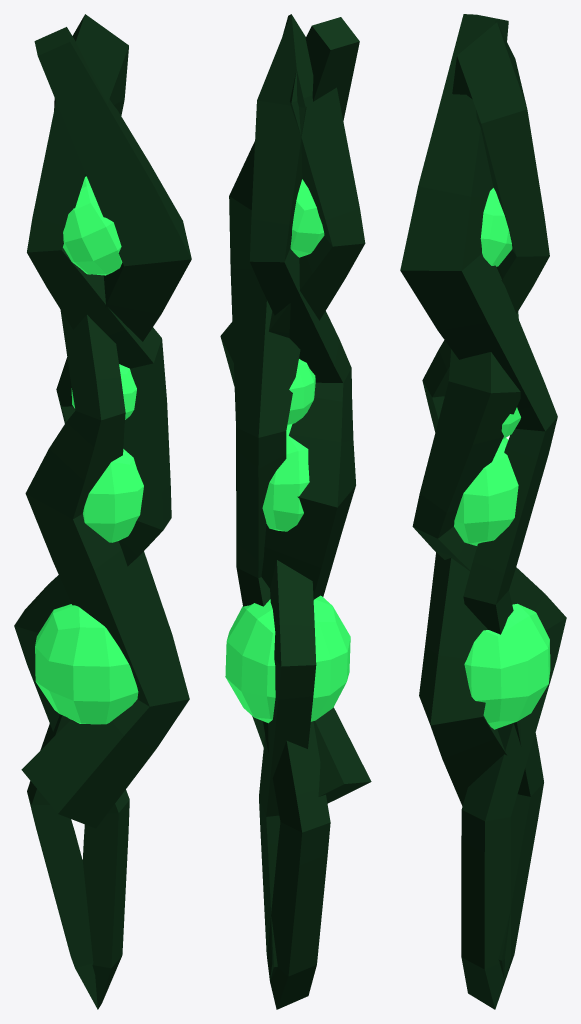
Rendered from light1.glb.
3 views of the same model, side by side, from view 1: azimuth 30°, elevation 25°; view 2: azimuth 150°, elevation 25°; view 3: azimuth 270°, elevation 25° (orthographic). The views are drawn at different scales.
Parts seen in each view (by area): view 1: alien_light; view 2: alien_light; view 3: alien_light.
Boxes of the visible parts, <box> form: alien_light: <box>14,14,191,1009</box>; alien_light: <box>220,14,371,1009</box>; alien_light: <box>400,14,566,1009</box>.
Bounding box in the file's own units: 2.37 × 15.42 × 2.37.
Materials: 1 (1 with a texture image).
